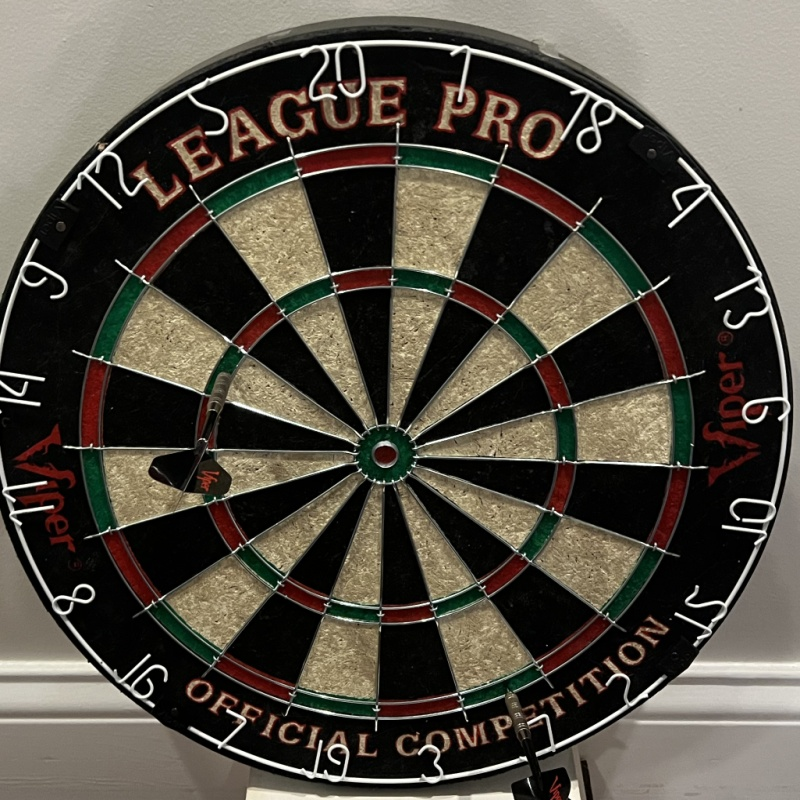dart: (214, 366, 236, 392), (502, 685, 522, 712)
eleven: (3, 480, 55, 527)
six: (741, 397, 791, 425)
three: (417, 745, 445, 785)
twenty: (301, 43, 366, 101)
